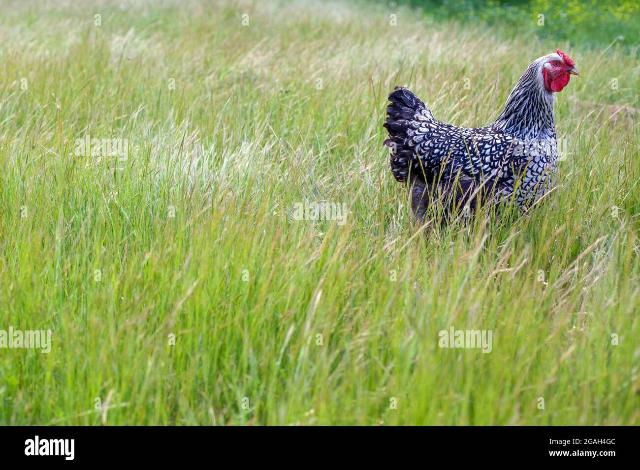Chicken: (382, 47, 581, 227)
